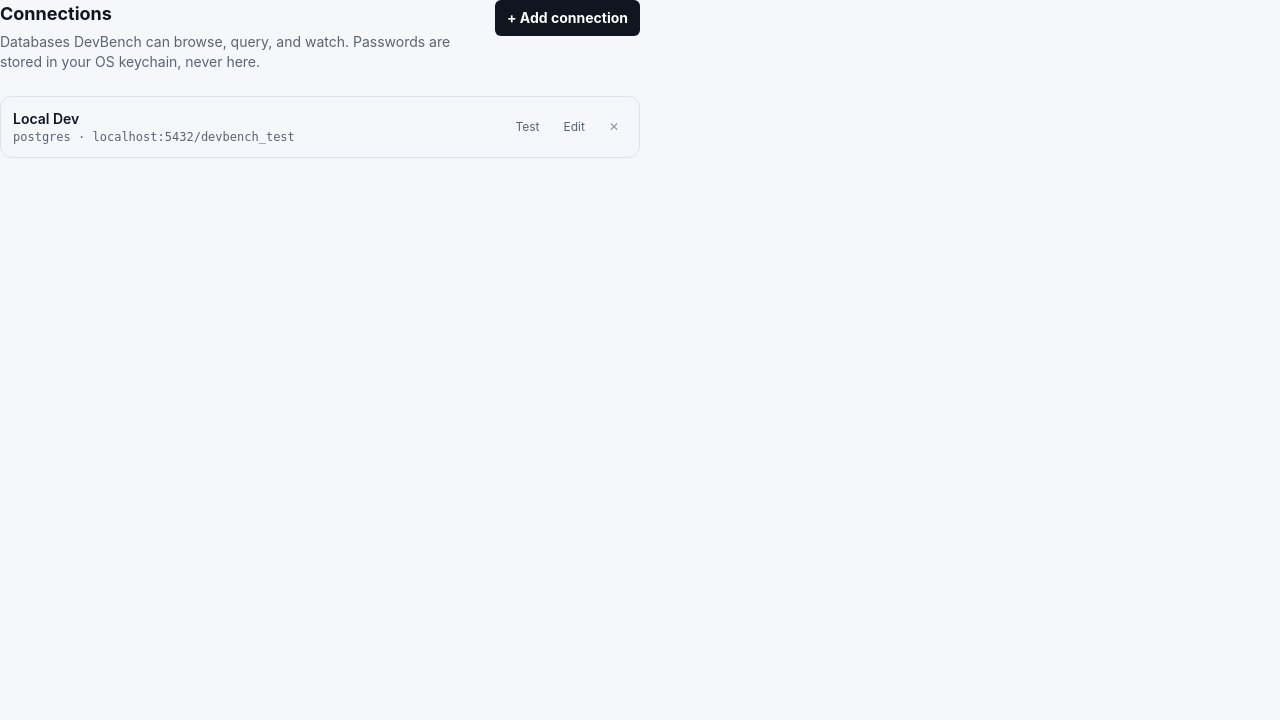
ConnectionsPane › keeps pending field edits after clearing a stored password, instead of silently discarding them
Expected: the text "Local Dev" is shown, [13,110,79,127]
Click the button with aria-label "Edit Local Dev" at (574, 127), box [556,115,593,139]
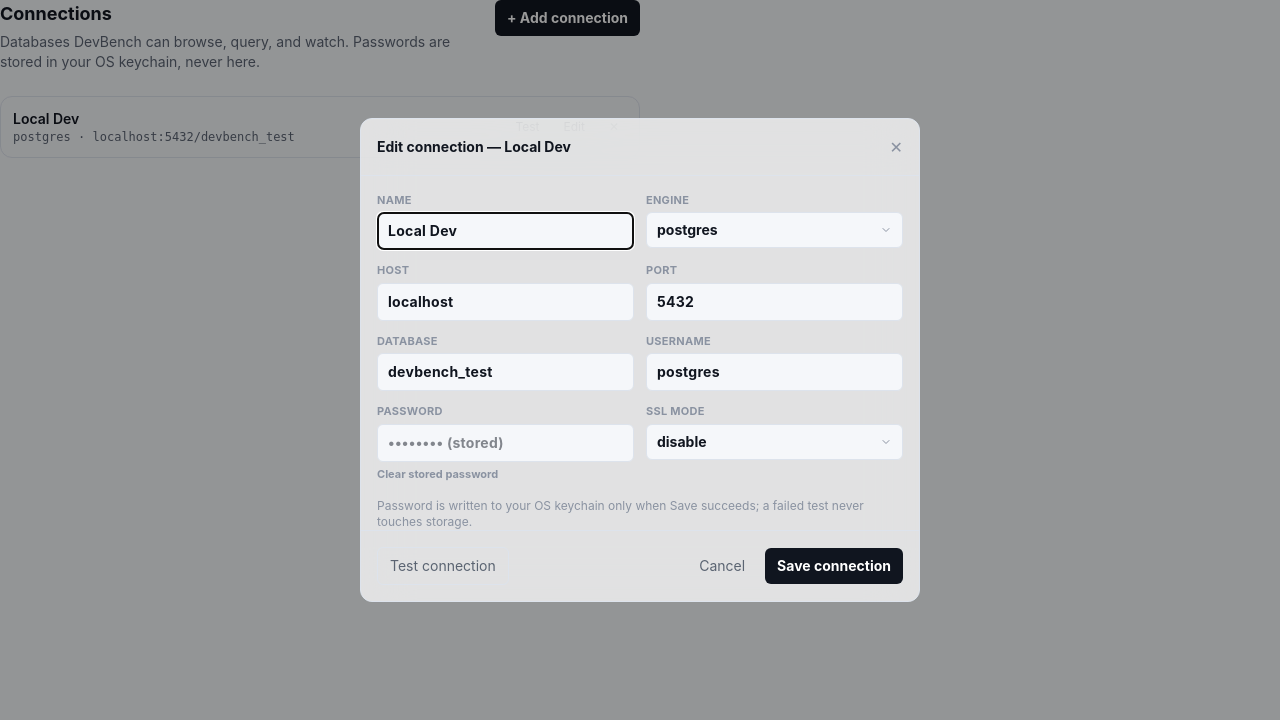
Replace the text in the field labelled "Host" with "edited-before-clearing.internal" at (506, 302), box [377,283,634,321]
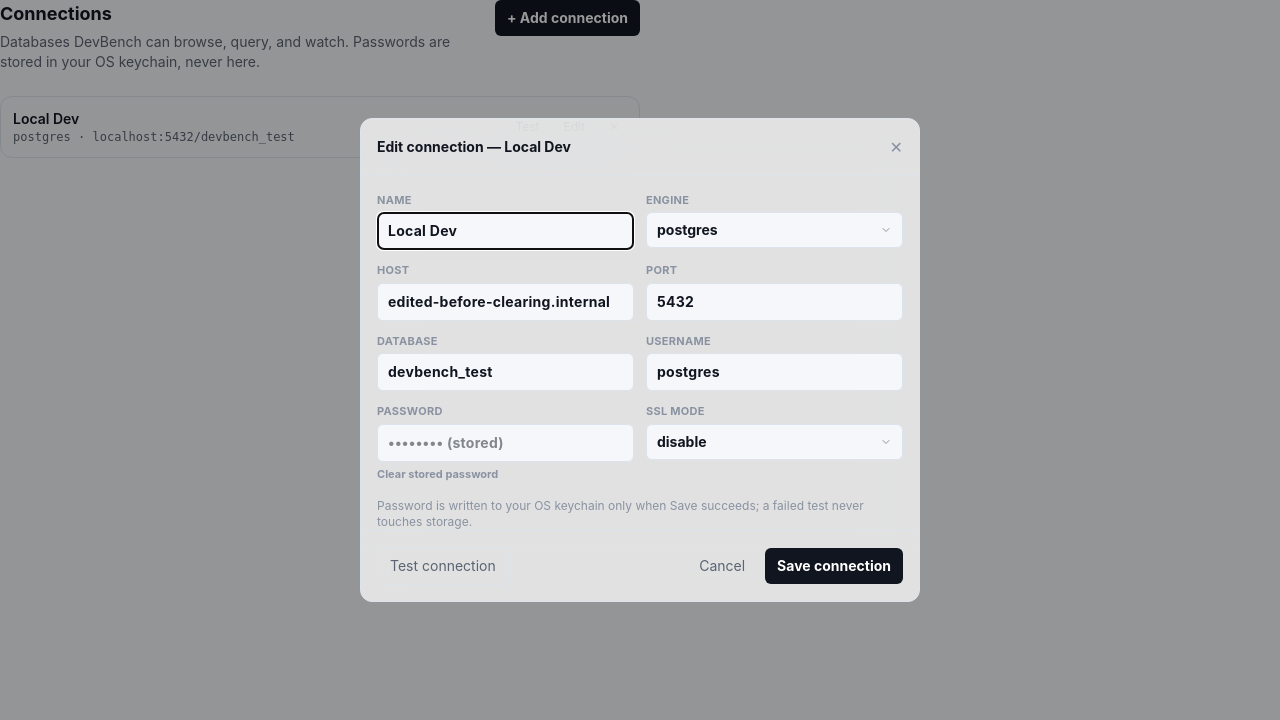
Click the button "Clear stored password" at (438, 474), box [377,466,498,482]
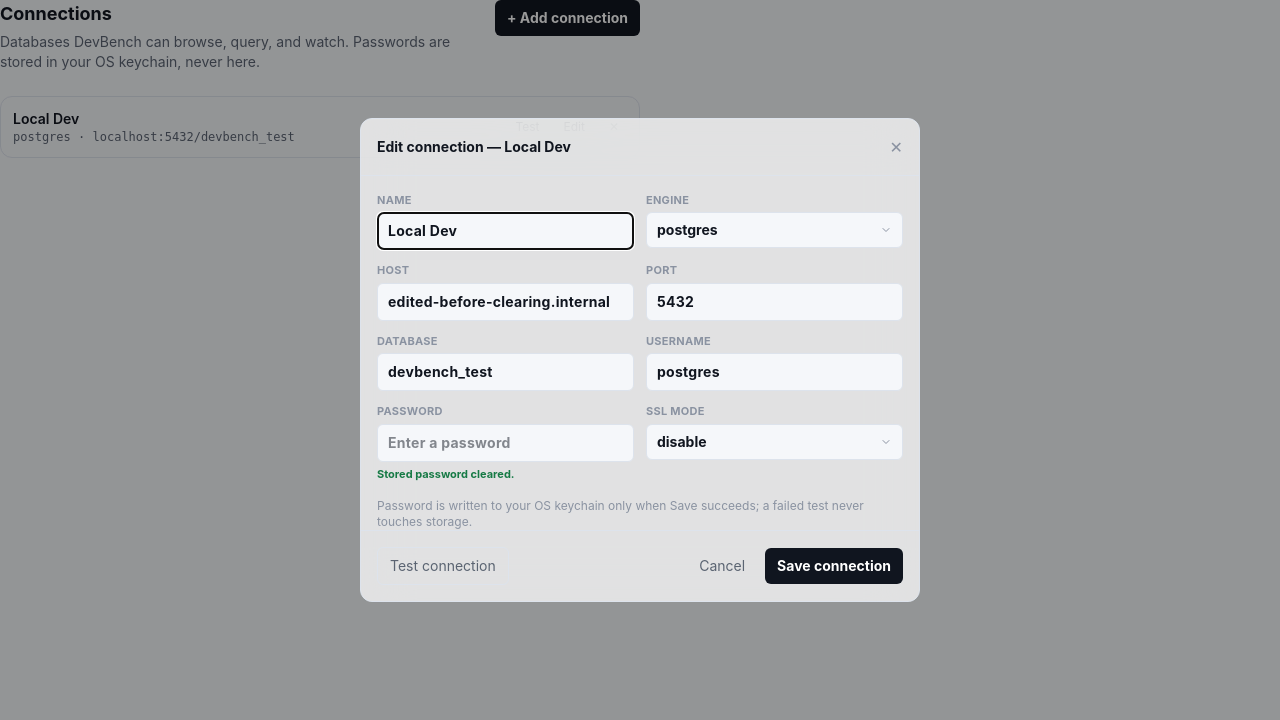
Now the heading "Edit connection — Local Dev" is shown, box [377,137,571,157]
Now the button "Clear stored password" is gone
Now the password field with placeholder "Enter a password" is shown, box [377,424,634,462]
